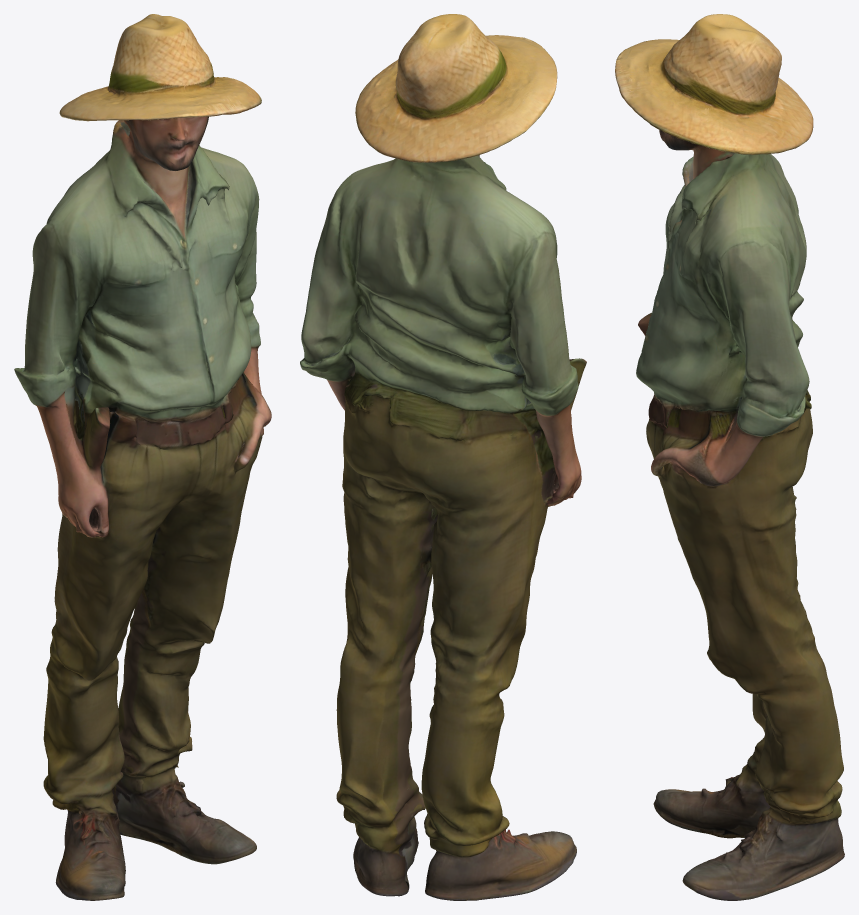
File: elias.glb
3 views of the same model, side by side, from view 1: azimuth 30°, elevation 25°; view 2: azimuth 150°, elevation 25°; view 3: azimuth 270°, elevation 25° (orthographic).
Size of the model in its own units: 0.6039 by 1.99 by 0.4935.
Materials: 1 (1 with a texture image).
